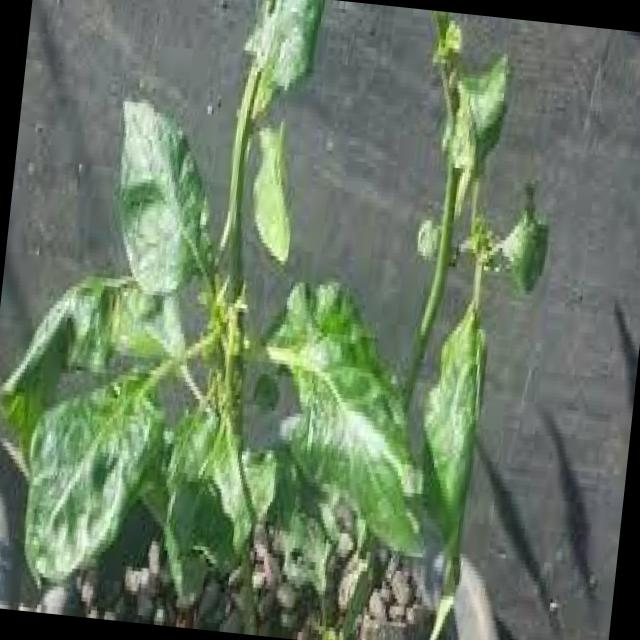Chilli_Leaf_Curl: (0, 0, 571, 640), (243, 272, 452, 562), (14, 362, 173, 596), (394, 296, 492, 640), (99, 93, 228, 304), (234, 0, 324, 124), (241, 111, 304, 265), (481, 176, 555, 296)
